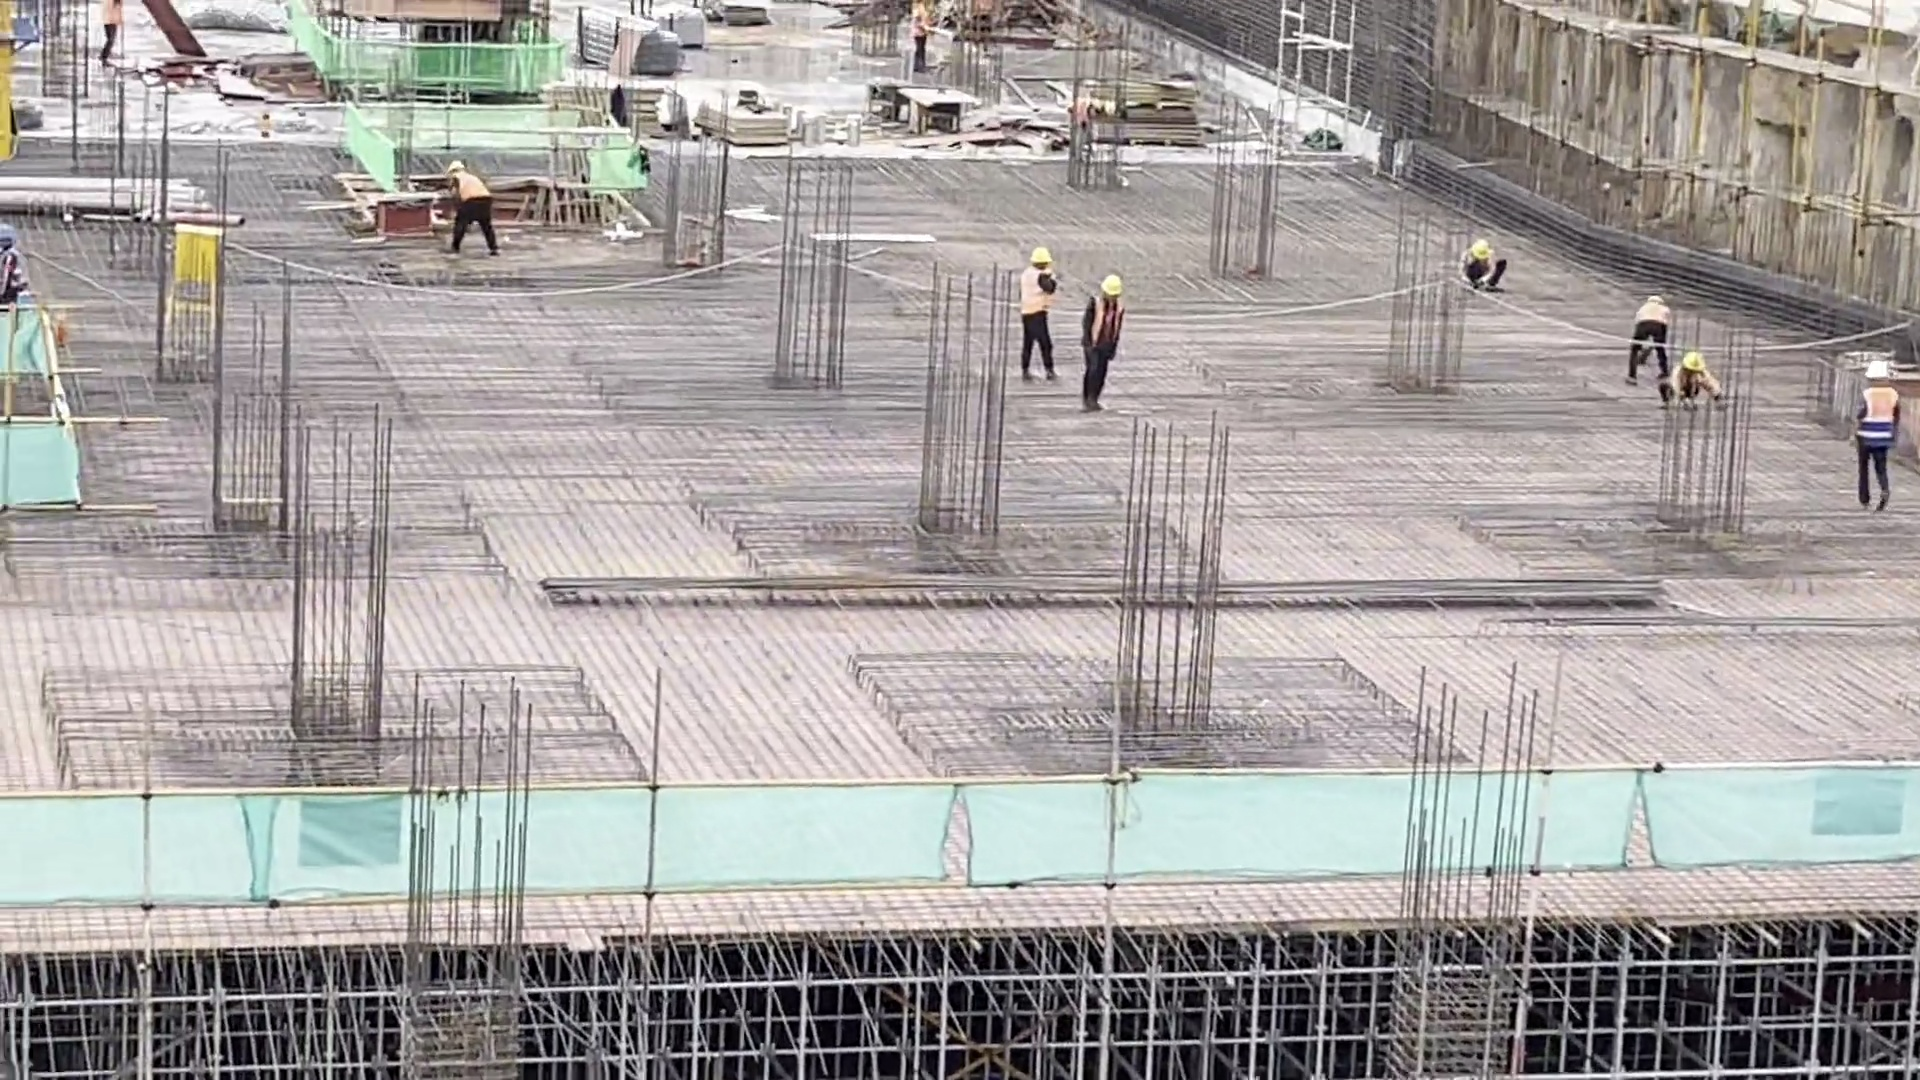helmet: (1100, 272, 1126, 296), (1865, 358, 1888, 381), (1682, 351, 1706, 372), (449, 154, 467, 178), (1, 228, 21, 249), (1030, 246, 1052, 265), (1470, 238, 1489, 259), (915, 5, 932, 20), (1646, 293, 1664, 306)
person: (1077, 264, 1128, 422), (1849, 360, 1899, 513), (1010, 243, 1058, 387), (444, 153, 499, 257), (1664, 338, 1733, 415), (1628, 287, 1682, 383), (1460, 237, 1514, 300), (90, 1, 129, 65), (1, 222, 30, 298), (909, 1, 934, 75)
vest: (1858, 385, 1897, 440), (1092, 296, 1121, 351), (1018, 271, 1044, 314), (455, 172, 492, 200), (3, 250, 26, 291), (1637, 304, 1668, 325), (101, 1, 122, 23), (912, 14, 925, 38)
